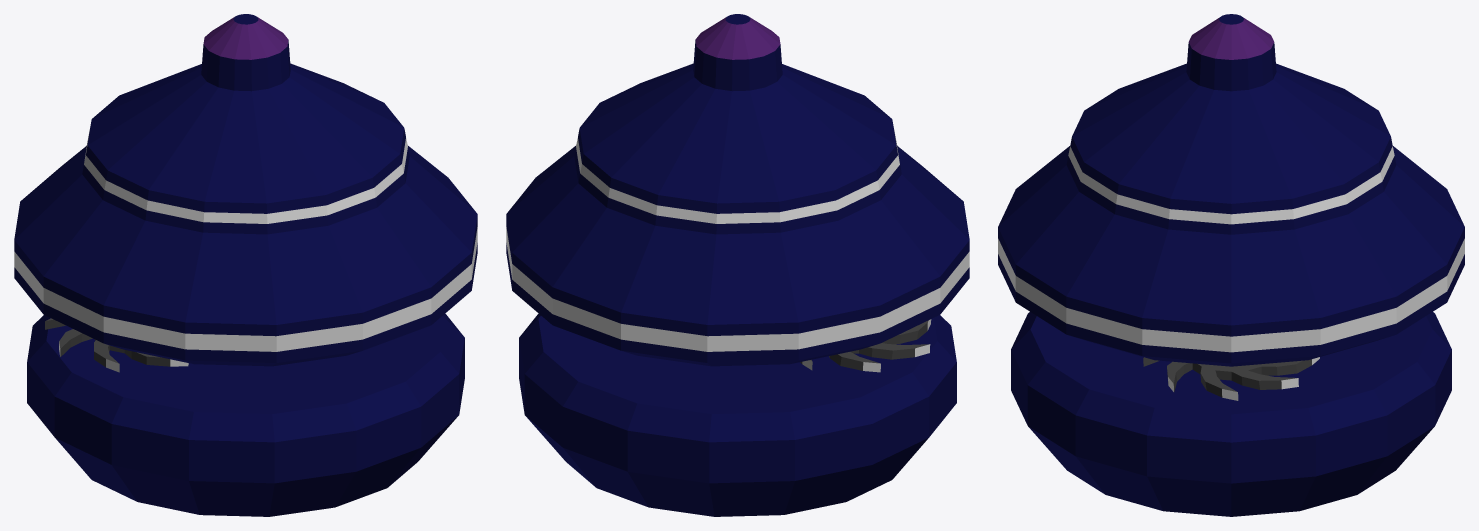
Rendered from MeleeEnemy.fbx.
3 views of the same model, side by side, from view 1: azimuth 30°, elevation 25°; view 2: azimuth 150°, elevation 25°; view 3: azimuth 270°, elevation 25° (orthographic).
Visible parts, largest first — view 1: Body, blade; view 2: Body, blade; view 3: Body, blade.
Boxes of the visible parts, x1,y1,x2,y2 form: Body: (14,14,477,516); blade: (45,318,188,372); Body: (506,14,969,516); blade: (800,319,931,372); Body: (998,14,1464,516); blade: (1143,357,1319,400).
Bounding box in the file's own units: 98.69 × 98.54 × 98.69.
